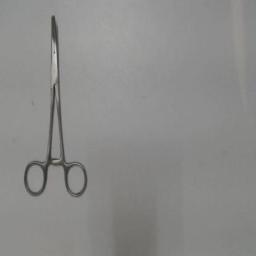Crile Artery Forceps: (20, 11, 90, 199)
